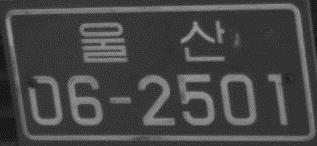-: (107, 93, 133, 108)
0: (218, 70, 258, 129), (25, 73, 64, 127)
1: (264, 70, 291, 129)
2: (137, 71, 176, 129)
5: (176, 70, 216, 129)
6: (65, 71, 104, 128)
울산_D: (77, 17, 227, 67)
